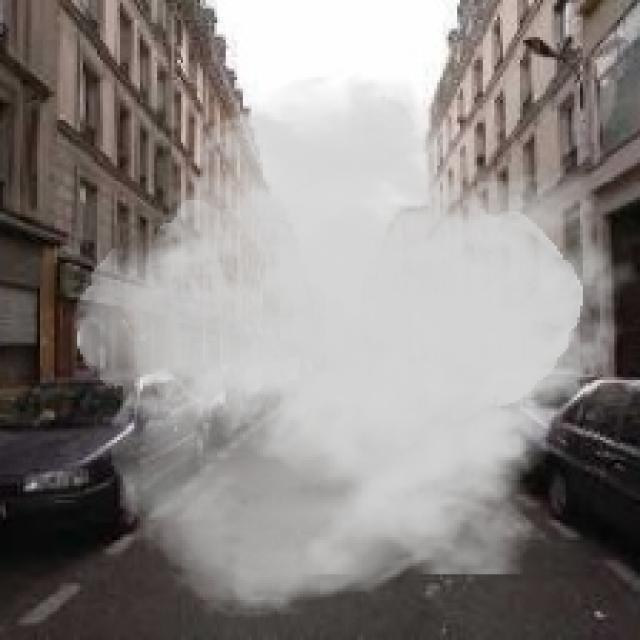Smoke: (74, 69, 637, 626)
